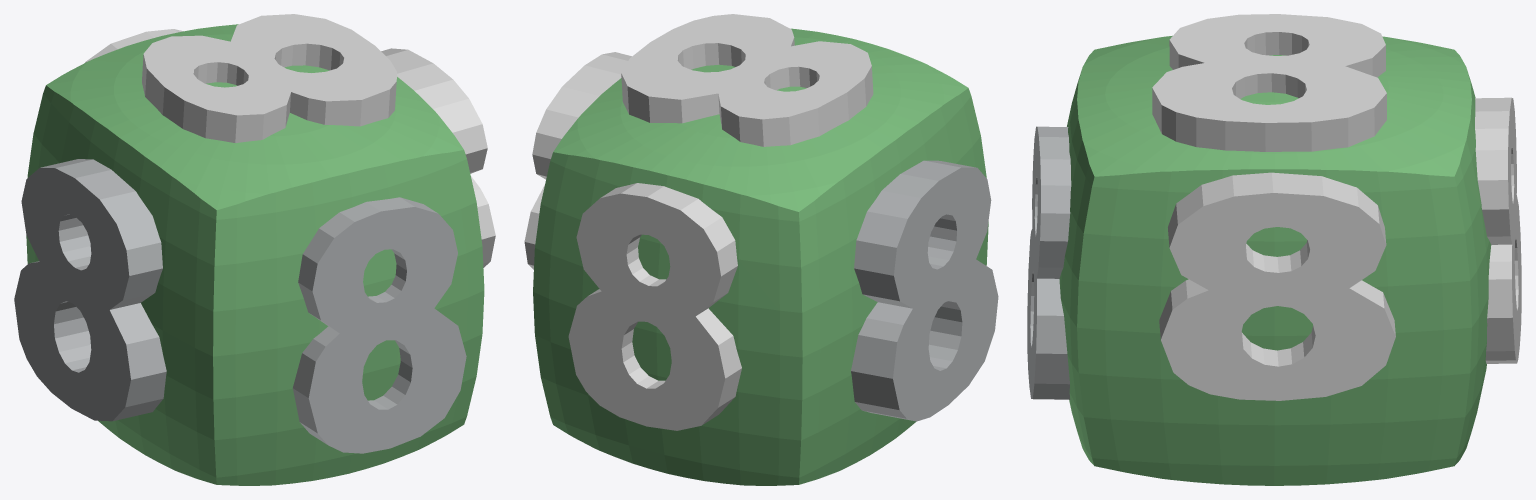
File: number8.glb
3 renders of one model, left to right at view 1: azimuth 30°, elevation 25°; view 2: azimuth 150°, elevation 25°; view 3: azimuth 270°, elevation 25°, orthographic. The views are drawn at different scales.
Parts seen in each view (by area): view 1: Mesh_Mesh_head_geo.001_lambert2SG.001; view 2: Mesh_Mesh_head_geo.001_lambert2SG.001; view 3: Mesh_Mesh_head_geo.001_lambert2SG.001.
Boxes of the visible parts, x1=… form: Mesh_Mesh_head_geo.001_lambert2SG.001: x1=14, y1=14, x2=495, y2=485; Mesh_Mesh_head_geo.001_lambert2SG.001: x1=524, y1=14, x2=998, y2=485; Mesh_Mesh_head_geo.001_lambert2SG.001: x1=1027, y1=14, x2=1521, y2=485.
Size of the model in its own units: 0.097 by 0.088 by 0.105.
